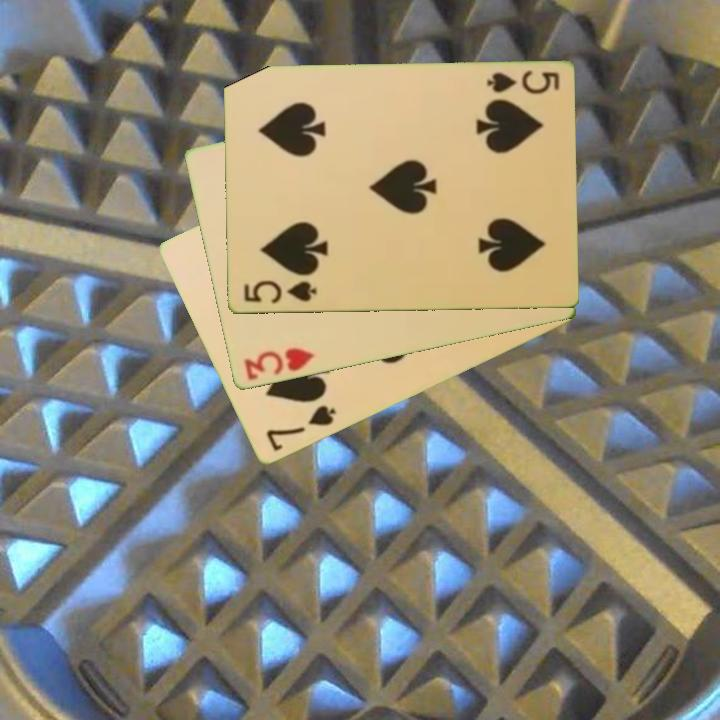3h: (240, 345, 317, 384)
5s: (483, 67, 562, 98), (240, 277, 319, 307)
7s: (262, 402, 339, 455)
